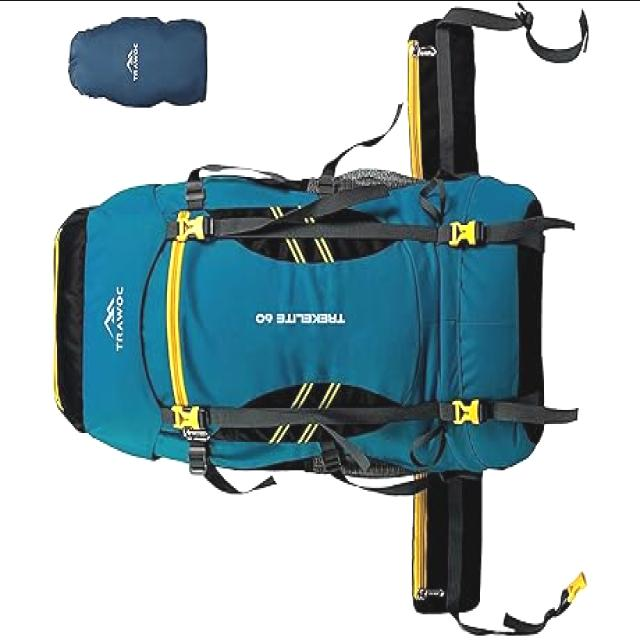backpack: (42, 125, 586, 513)
